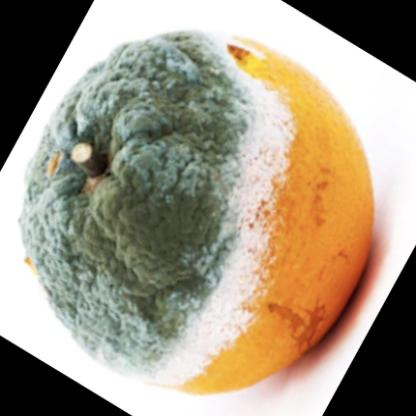rotten: (20, 31, 376, 397)
